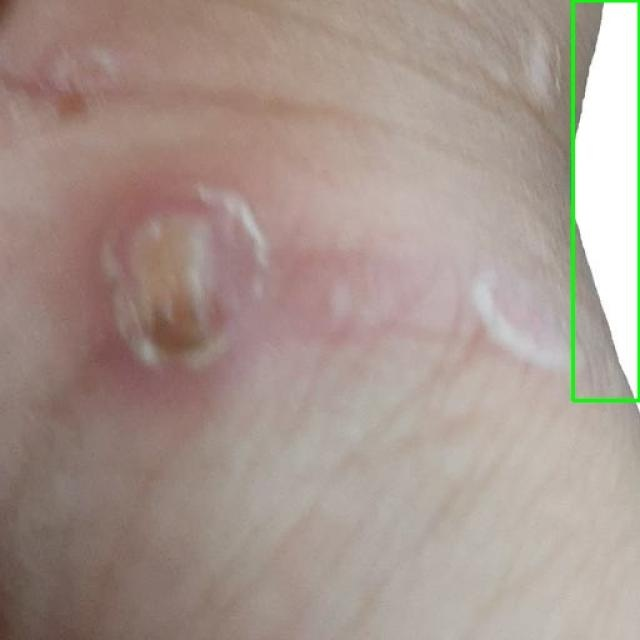Scabies: (572, 0, 639, 401)
